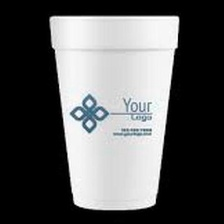paper_cup: (44, 10, 182, 214)
